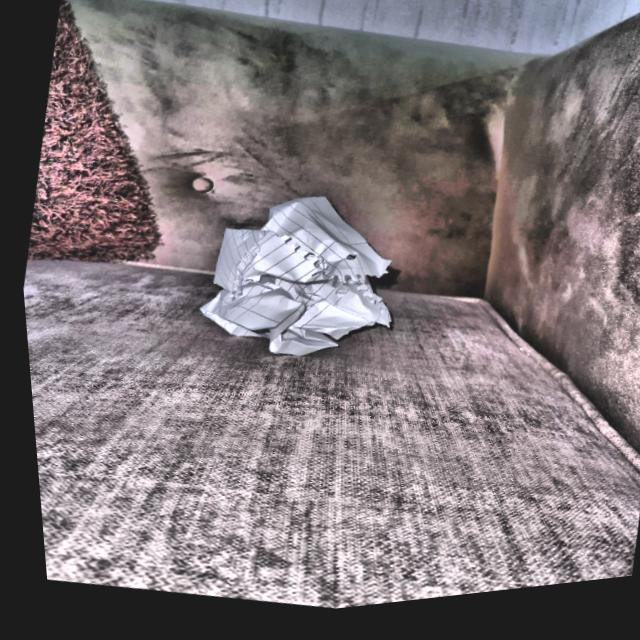Paper: (176, 175, 413, 394)
